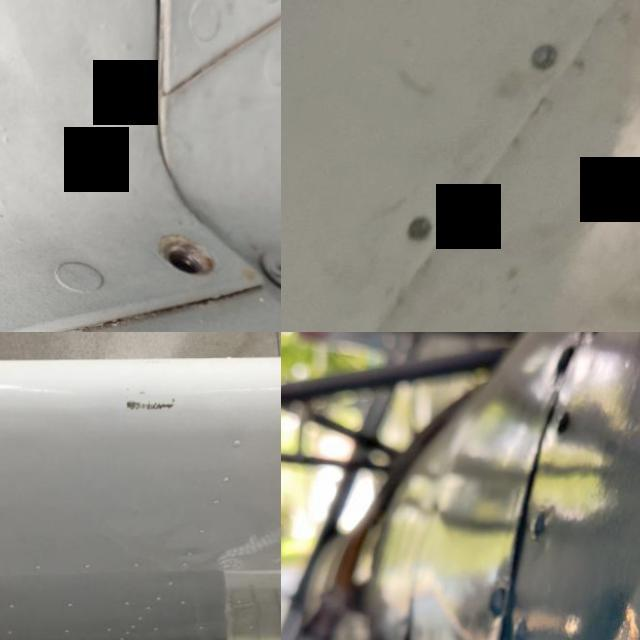Crack: (113, 382, 186, 440)
Dent: (554, 570, 640, 640)
Missing_Fastener: (140, 208, 246, 306), (528, 40, 566, 76), (402, 216, 446, 247)
